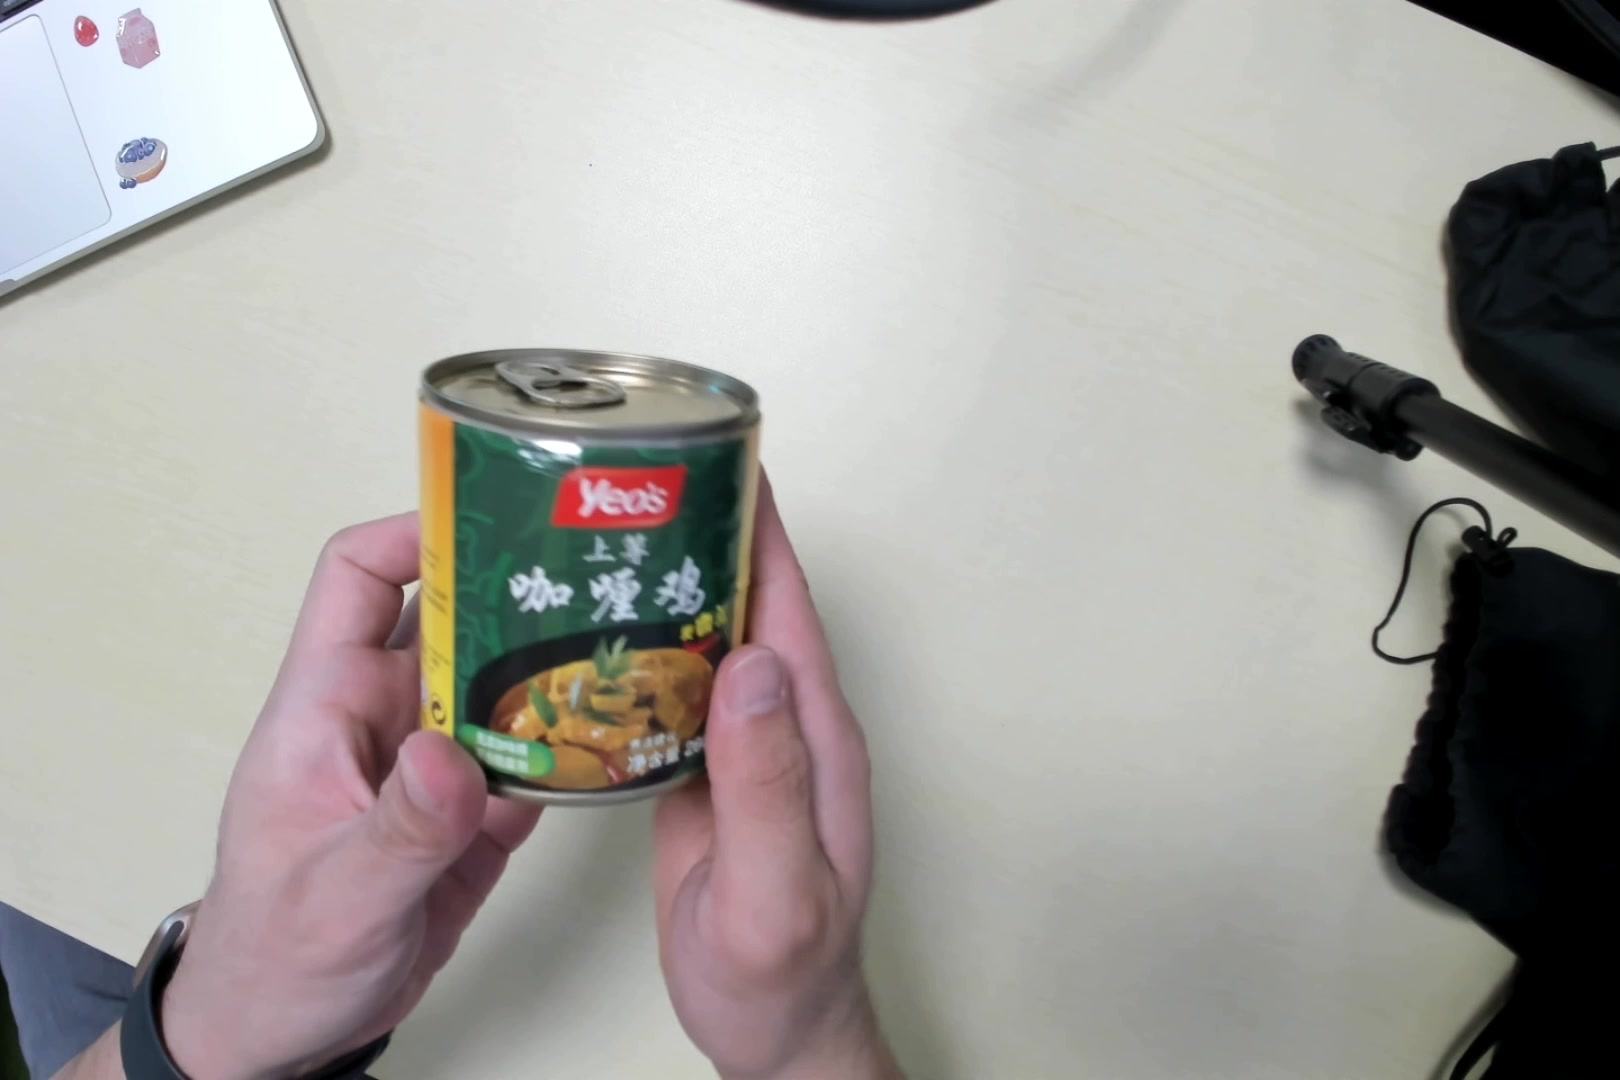CannedChicken_100-199g_Halal_NonHealthy: (418, 350, 749, 794)
